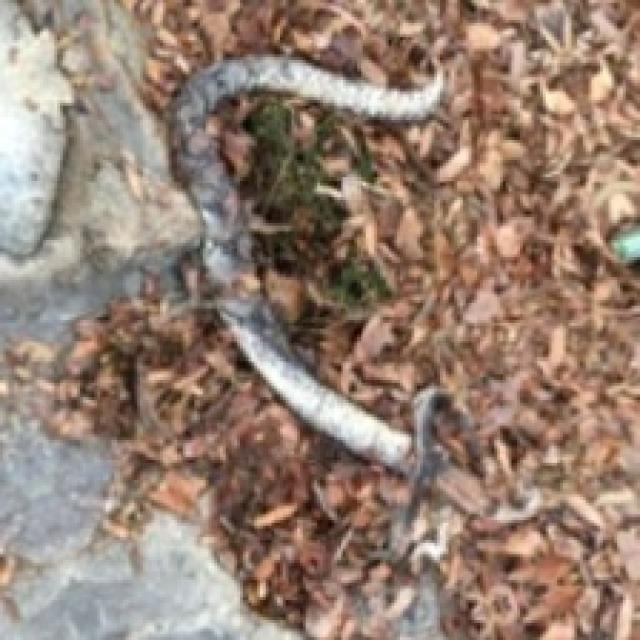reticulated python: (174, 54, 443, 471)
